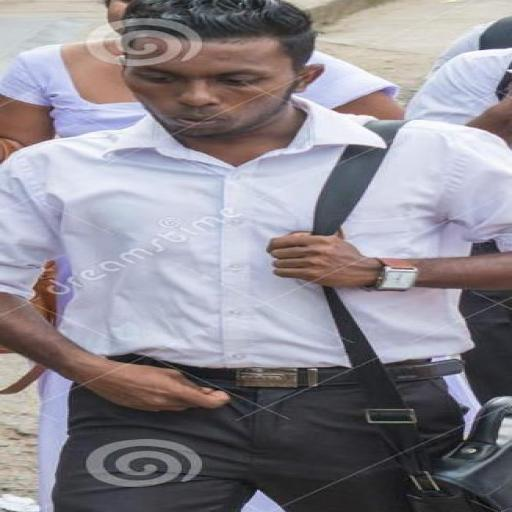person: (0, 0, 511, 511), (0, 41, 145, 145), (408, 49, 511, 143), (434, 17, 511, 70)
